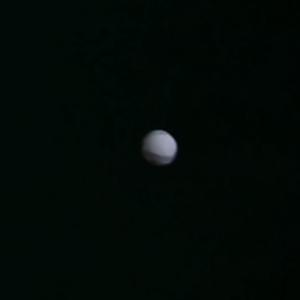ball: (140, 128, 180, 168)
